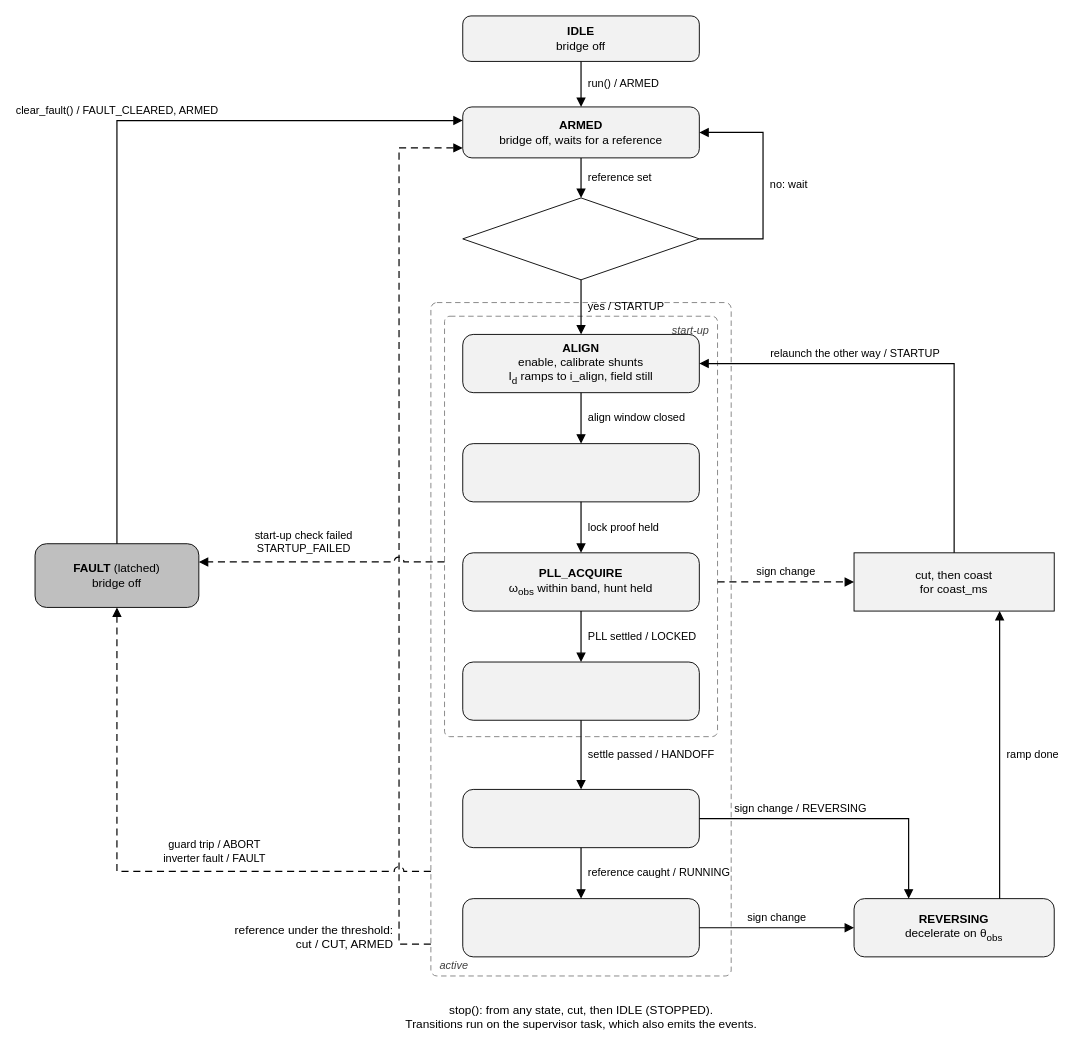
Some shapes in this 1075 by 1051 pixel diagram are drawn without their labels. Each missing label, with the centre of its shape:
CATCH ramp to the user i q or ω*: [580,818]
HANDOFF blend θ ol → θ obs settle: ω ≥ we_min: [580,690]
LOCKIN optional V/f up to vf_hz I-f ramp to the plateau: [580,472]
RUNNING Park on θ obs: [580,927]
|reference| above threshold and coast_ms elapsed?: [580,238]
